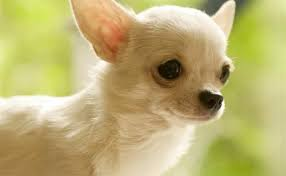chihuahua: (19, 2, 253, 176)
